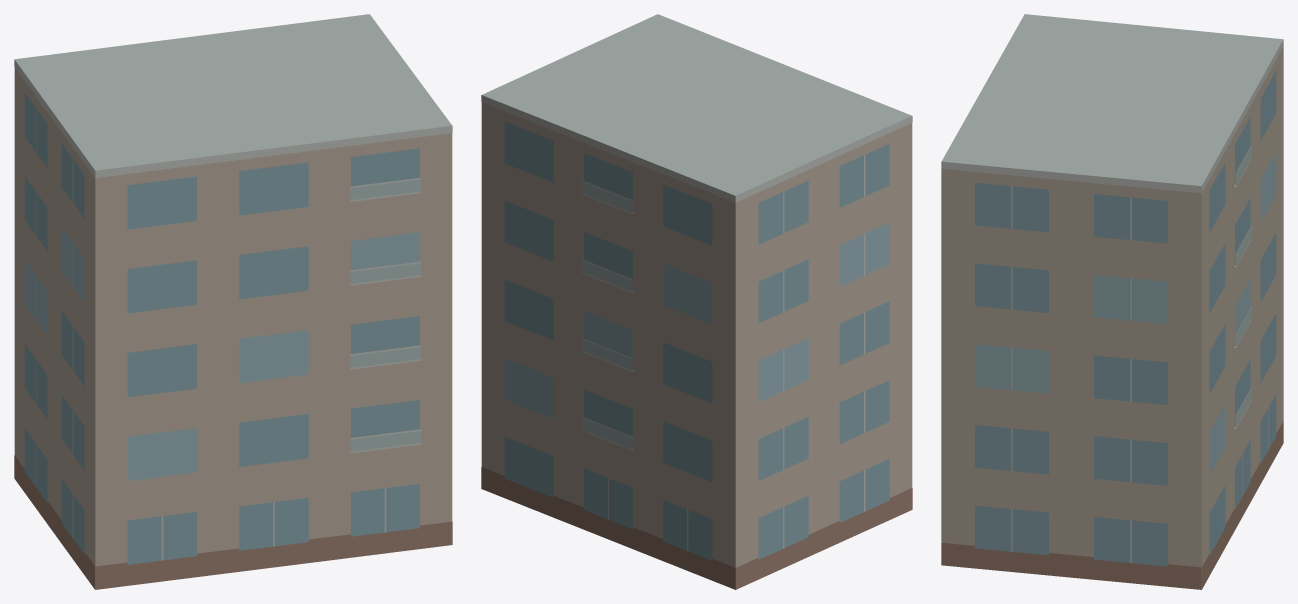
File: survey-upis-32872327.glb
The picture shows the model from 3 angles, left to right: view 1: azimuth 30°, elevation 25°; view 2: azimuth 150°, elevation 25°; view 3: azimuth 270°, elevation 25°; orthographic projection. The views are drawn at different scales.
Visible parts, largest first — view 1: survey-upis-32872327.tmp; view 2: survey-upis-32872327.tmp; view 3: survey-upis-32872327.tmp.
Boxes of the visible parts, x1,y1,x2,y2 form: survey-upis-32872327.tmp: [14, 14, 452, 589]; survey-upis-32872327.tmp: [481, 14, 912, 589]; survey-upis-32872327.tmp: [941, 14, 1283, 589].
Size of the model in its own units: 12.63 by 13.8 by 10.61.
